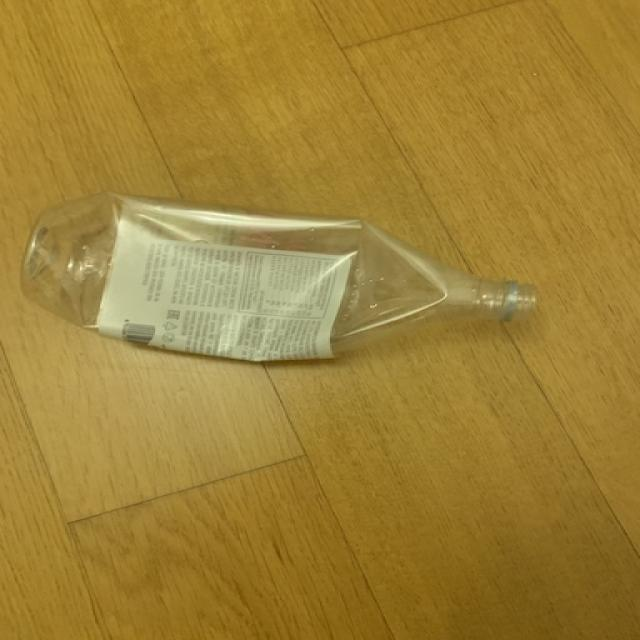PET: (17, 185, 553, 375)
